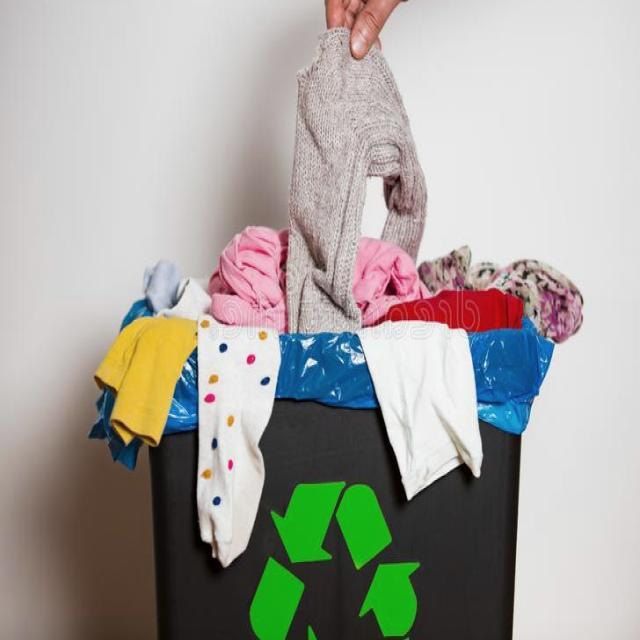clothes: (294, 56, 409, 354)
